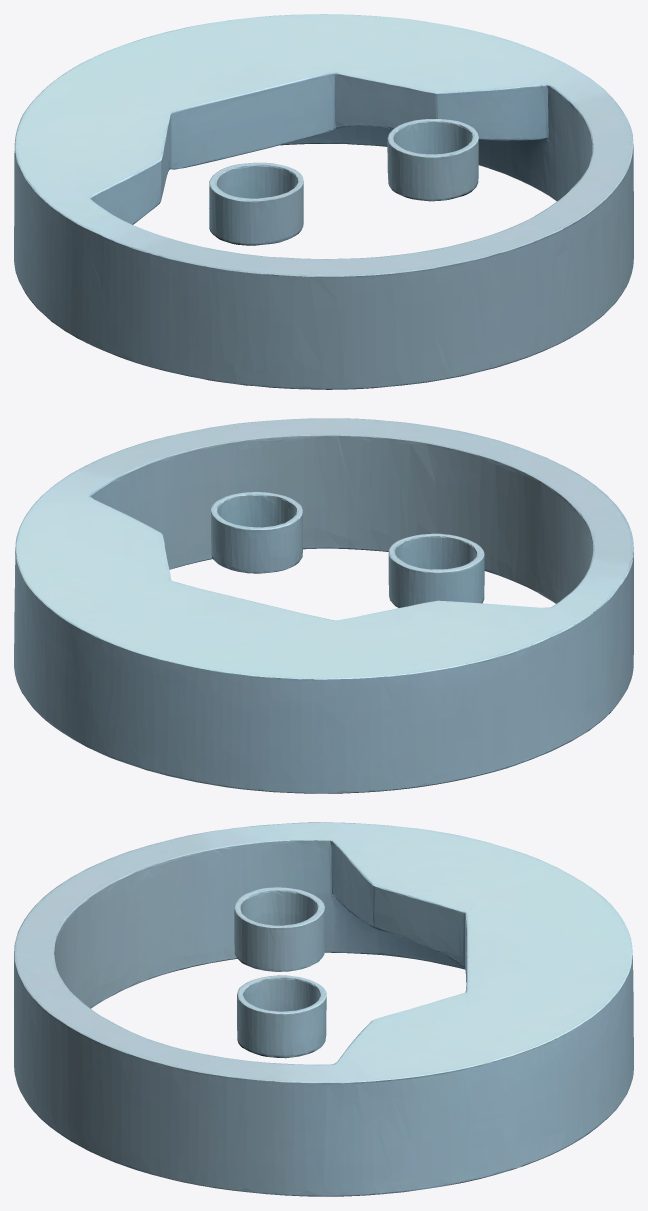
3 renders of one model, top to bottom at view 1: azimuth 30°, elevation 25°; view 2: azimuth 150°, elevation 25°; view 3: azimuth 270°, elevation 25°, orthographic.
Parts seen in each view (by area): view 1: geometry_0; view 2: geometry_0; view 3: geometry_0.
Part boxes in pixels (box(x1,y1,x2,y2)): geometry_0: box(14, 14, 633, 389); geometry_0: box(14, 418, 633, 793); geometry_0: box(14, 822, 633, 1196).
Size of the model in its own units: 0.9977 by 0.2064 by 0.9999.
1 material, 1 textured.
